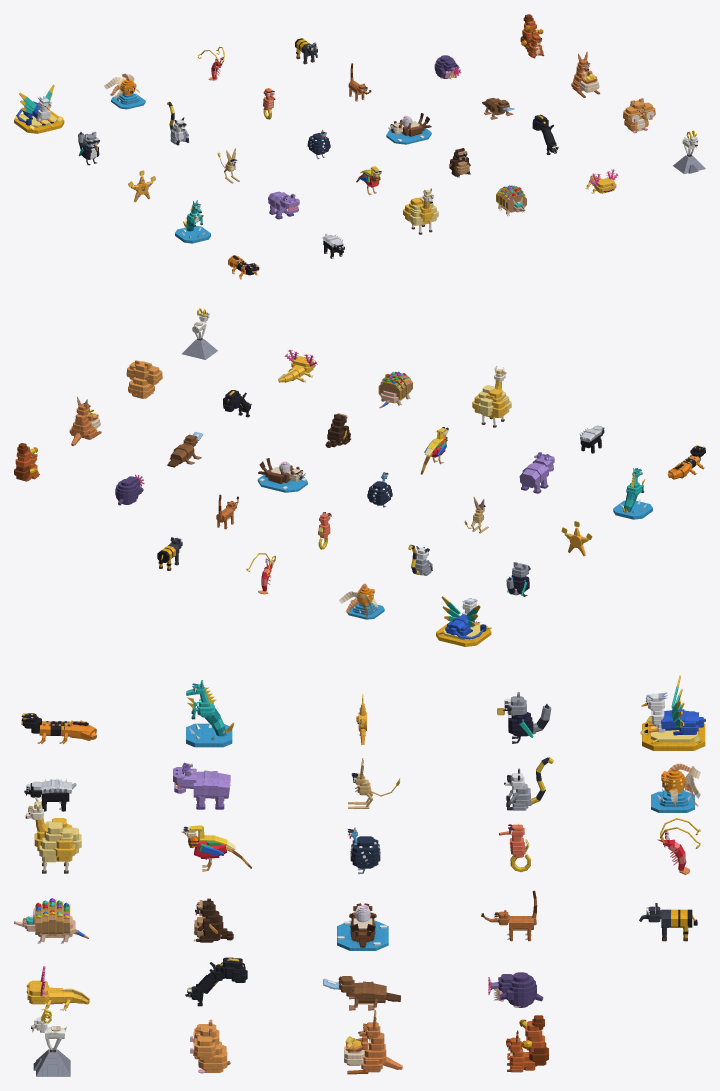
The model's file is Boss7Creatures_all.fbx.
3 renders of one model, top to bottom at view 1: azimuth 30°, elevation 25°; view 2: azimuth 150°, elevation 25°; view 3: azimuth 270°, elevation 25°, orthographic. The views are drawn at different scales.
Visible parts, largest first — view 1: Art_FleeceAlpaca_Body, Art_PearlOtter_Body, Art_TreasureGriffin_Hoard, Art_GemArmadillo_Body, Art_HoardHamster_Head, Art_GoldManeHippocamp_Wave, Art_GoldAxolotl_Head, Art_StashSquirrel_Tail; view 2: Art_FleeceAlpaca_Body, Art_GemArmadillo_Body, Art_PearlOtter_Body, Art_GoldToothHippo_Body, Art_TreasureGriffin_Hoard, Art_StashSquirrel_Tail, Art_HoardHamster_Head, Art_PouchKangaroo_Body; view 3: Art_FleeceAlpaca_Body, Art_PearlOtter_Body, Art_GemArmadillo_Body, Art_TreasureGriffin_Hoard, Art_GoldToothHippo_Body, Art_StashSquirrel_Tail, Art_TreasureGriffin_Body, Art_PouchKangaroo_Body, Art_GoldManeHippocamp_Wave, Art_PearlGuineafowl_Body, Art_VeilGoldfish_Splash, Art_HoardHamster_Head (+8 smaller).
Part boxes in pixels (x1,y1,x2,y2): Art_FleeceAlpaca_Body: (403, 197, 438, 234); Art_PearlOtter_Body: (386, 113, 431, 144); Art_TreasureGriffin_Hoard: (14, 111, 64, 133); Art_GemArmadillo_Body: (496, 185, 526, 216); Art_HoardHamster_Head: (623, 98, 655, 123); Art_GoldManeHippocamp_Wave: (175, 226, 210, 243); Art_GoldAxolotl_Head: (588, 169, 618, 193); Art_StashSquirrel_Tail: (520, 14, 543, 52); Art_FleeceAlpaca_Body: (472, 385, 511, 427); Art_GemArmadillo_Body: (378, 371, 412, 405); Art_PearlOtter_Body: (257, 458, 307, 492); Art_GoldToothHippo_Body: (519, 462, 548, 493); Art_TreasureGriffin_Hoard: (436, 621, 491, 646); Art_StashSquirrel_Tail: (14, 443, 37, 481); Art_HoardHamster_Head: (126, 360, 162, 384); Art_PouchKangaroo_Body: (69, 413, 101, 445); Art_FleeceAlpaca_Body: (34, 818, 81, 873); Art_PearlOtter_Body: (337, 918, 388, 950); Art_GemArmadillo_Body: (35, 898, 75, 943); Art_TreasureGriffin_Hoard: (640, 716, 705, 750); Art_GoldToothHippo_Body: (193, 770, 230, 809); Art_StashSquirrel_Tail: (519, 1015, 548, 1070); Art_TreasureGriffin_Body: (644, 709, 698, 735); Art_PouchKangaroo_Body: (347, 1032, 402, 1074); Art_GoldManeHippocamp_Wave: (186, 723, 232, 747); Art_PearlGuineafowl_Body: (350, 836, 380, 874); Art_VeilGoldfish_Splash: (651, 788, 694, 812); Art_HoardHamster_Head: (193, 1019, 219, 1059).
Bounding box in the file's own units: 32.2 × 3.17 × 26.77.
